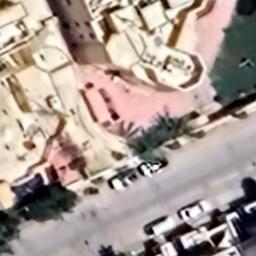sedan: (140, 214, 178, 240), (106, 169, 140, 193), (177, 198, 210, 222), (136, 154, 168, 178)
